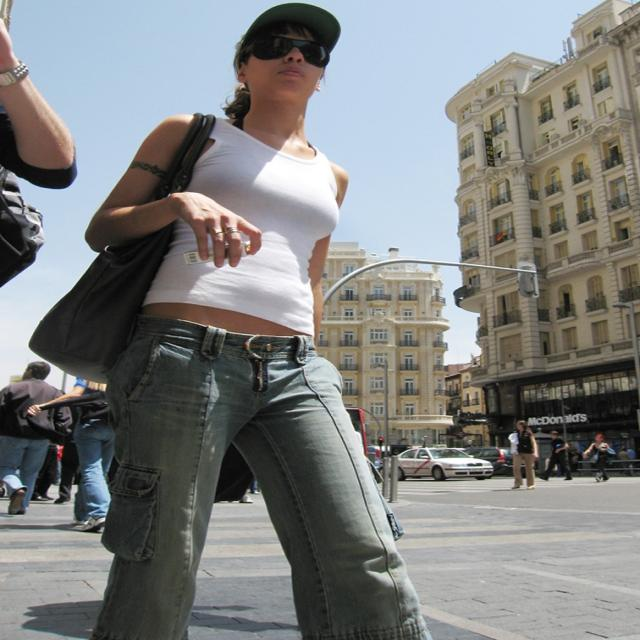hat: (233, 1, 344, 45)
